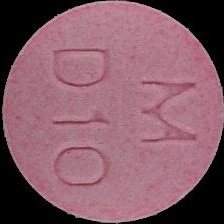0615-6570: (0, 0, 224, 224)
